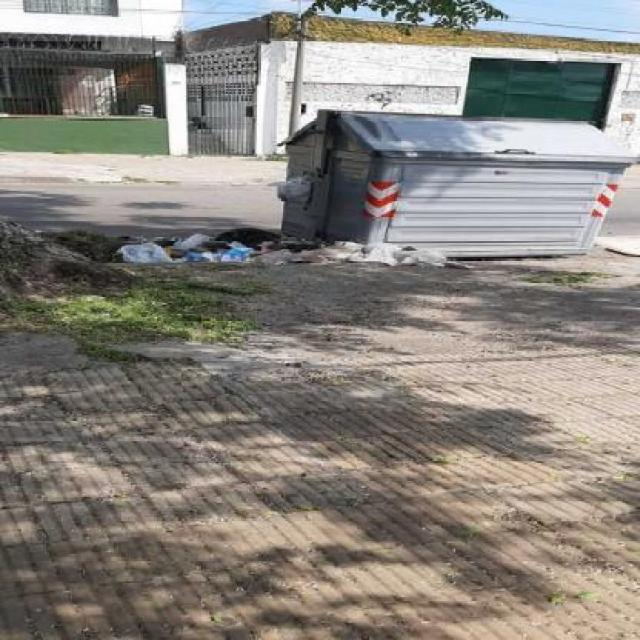garbage: (35, 220, 448, 282)
